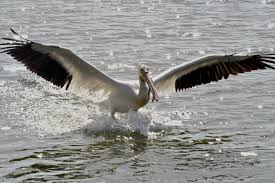pelican: (1, 28, 275, 122)
